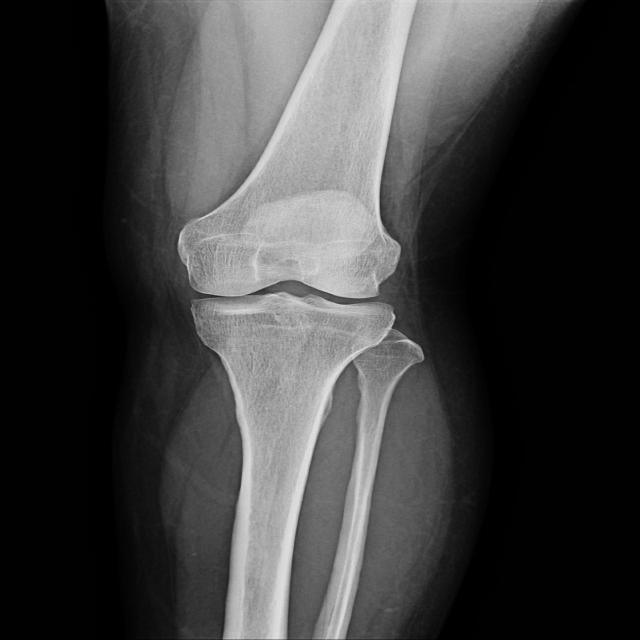normal: (168, 204, 402, 337)
